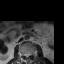CCS_normal: (26, 51, 28, 59)
LFS_stenosis: (30, 51, 32, 57)
LLS_normal: (28, 51, 30, 58)
RFS_stenosis: (22, 51, 24, 57)
RLS_normal: (24, 51, 26, 58)
